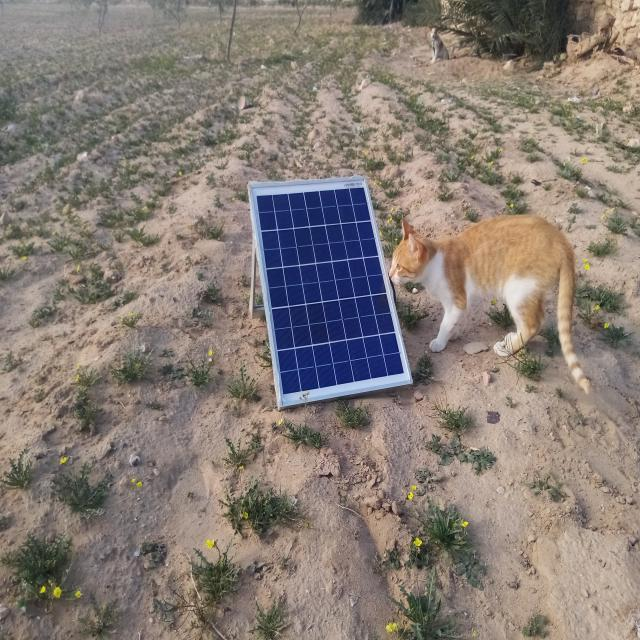no faulty: (249, 177, 413, 406)
